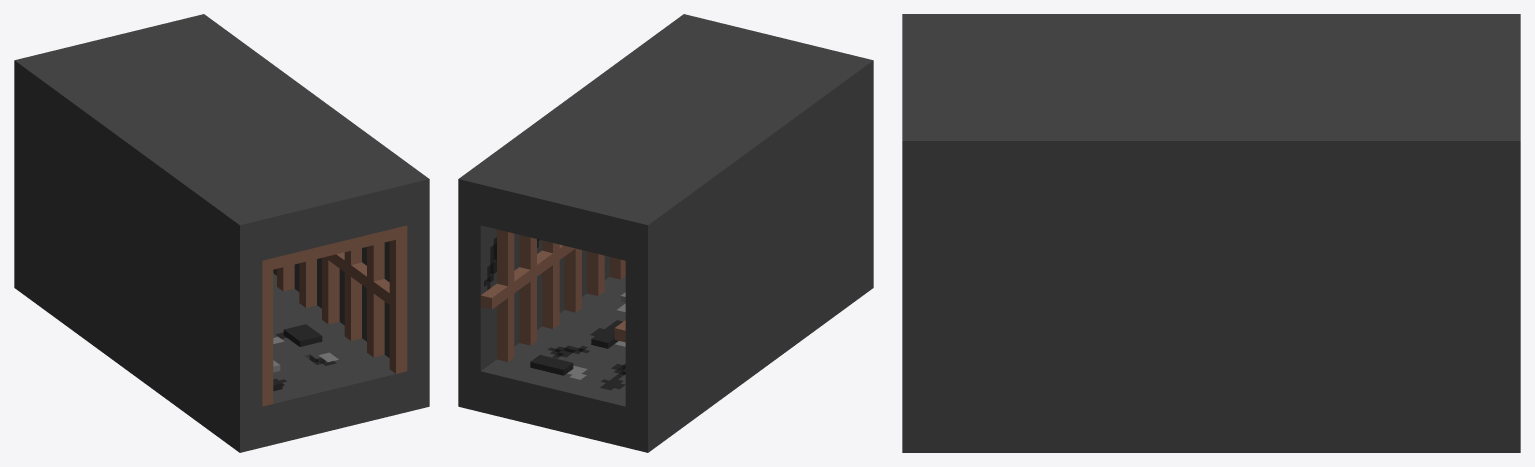
Rendered from Mine-7-Mine Way.obj.
3 renders of one model, left to right at view 1: azimuth 30°, elevation 25°; view 2: azimuth 150°, elevation 25°; view 3: azimuth 270°, elevation 25°, orthographic. The views are drawn at different scales.
Visible parts, largest first — view 1: Mine Way; view 2: Mine Way; view 3: Mine Way.
Part boxes in pixels (x1,y1,x2,y2): Mine Way: (14, 14, 429, 452); Mine Way: (458, 14, 873, 452); Mine Way: (902, 14, 1520, 452).
Size of the model in its own units: 3.4 by 3.9 by 7.
Materials: 1 (1 with a texture image).
